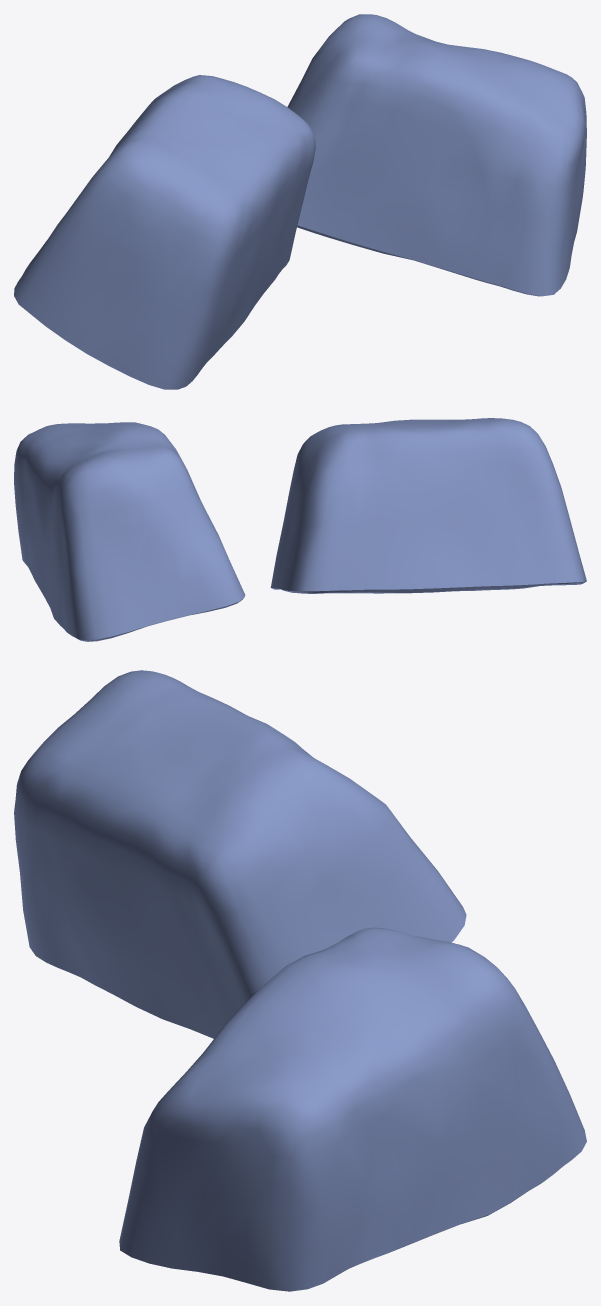
The model's file is Project Name.gltf.
3 views of the same model, one above another, from view 1: azimuth 30°, elevation 25°; view 2: azimuth 150°, elevation 25°; view 3: azimuth 270°, elevation 25° (orthographic). The views are drawn at different scales.
Visible parts, largest first — view 1: Ice Cube Tray.001 1; view 2: Ice Cube Tray.001 1; view 3: Ice Cube Tray.001 1.
Boxes of the visible parts, bbox=[...] form: Ice Cube Tray.001 1: bbox=[14, 14, 586, 389]; Ice Cube Tray.001 1: bbox=[14, 418, 586, 641]; Ice Cube Tray.001 1: bbox=[14, 670, 586, 1291].
Bounding box in the file's own units: 0.0306 × 0.0117 × 0.0191.
